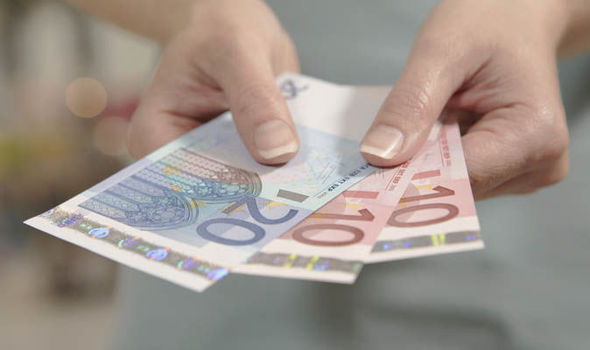billete: (22, 69, 399, 295), (225, 94, 451, 289), (360, 99, 489, 267)
